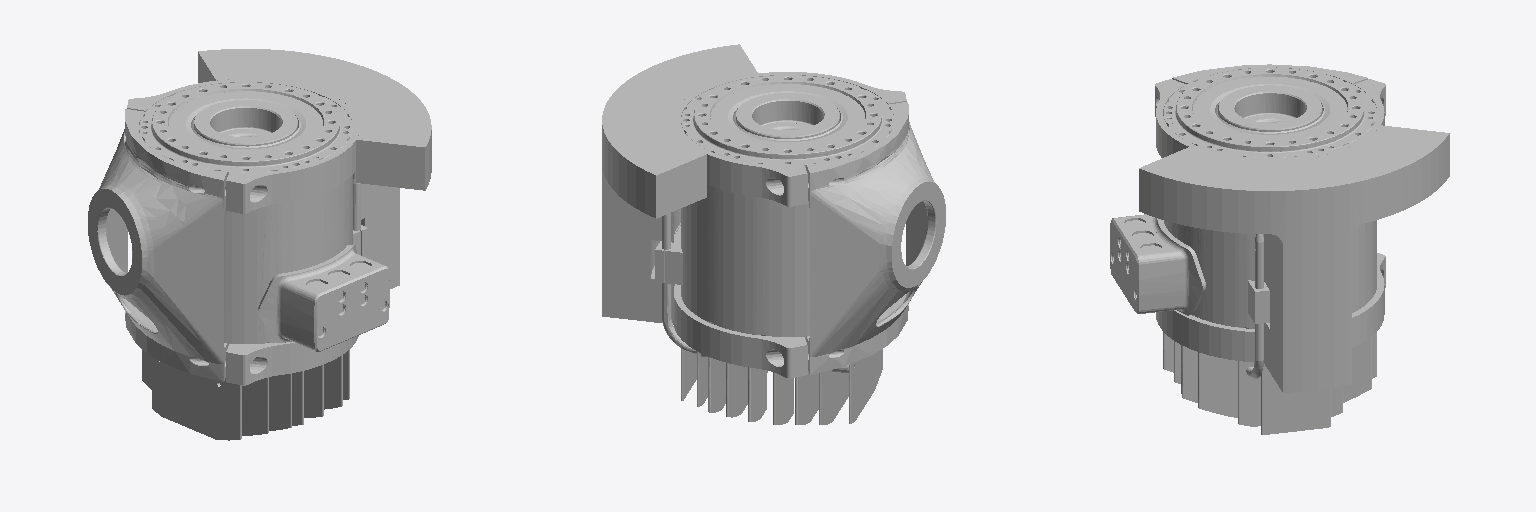
File: anymal_hip_l.obj
The picture shows the model from 3 angles: view 1: azimuth 30°, elevation 25°; view 2: azimuth 150°, elevation 25°; view 3: azimuth 270°, elevation 25°; orthographic projection.
Bounding box in the file's own units: 142 × 131 × 142.